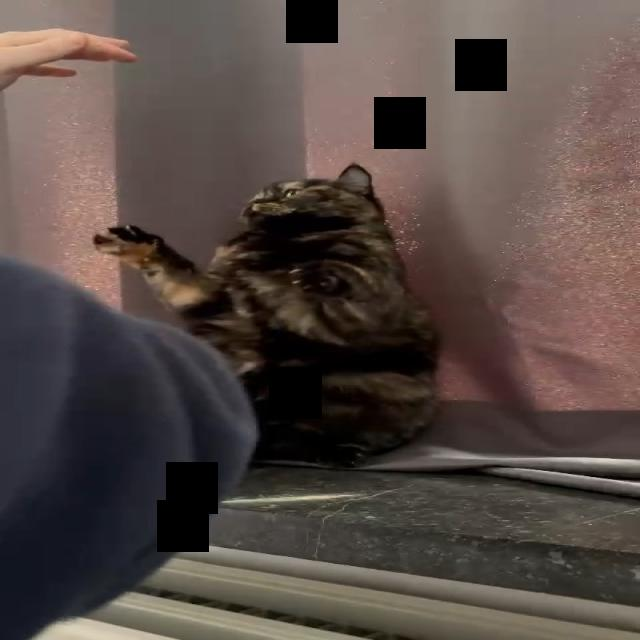authorized: (90, 162, 442, 468)
